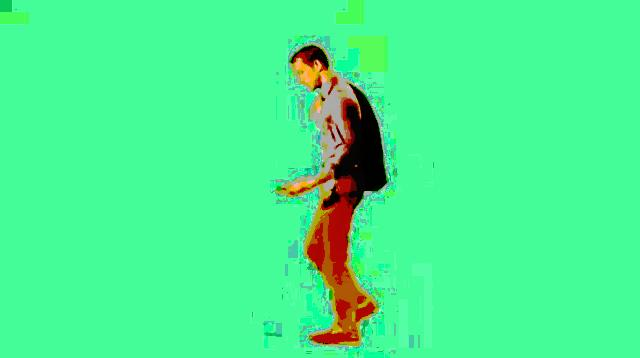berjalan: (274, 36, 388, 348)
